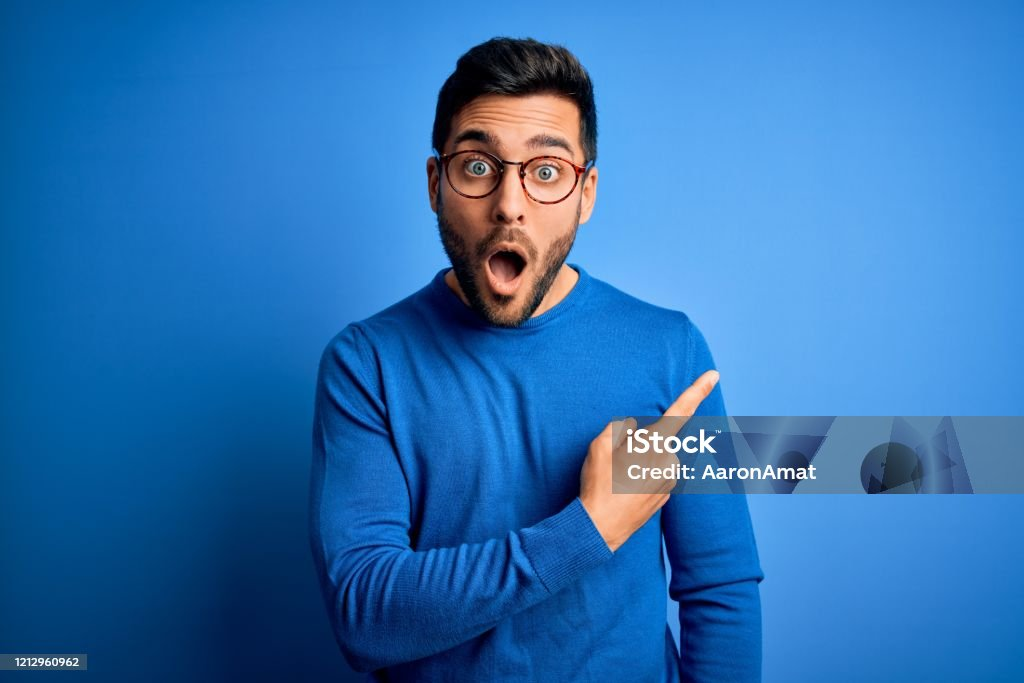Male: (260, 22, 790, 683)
